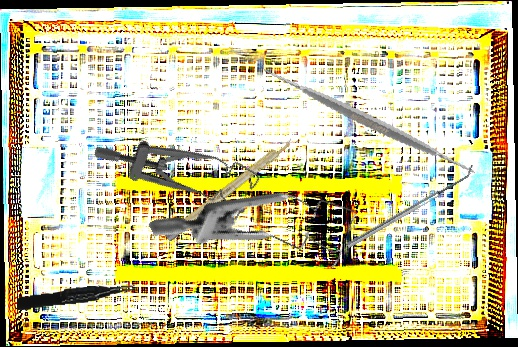Scalpel Handle: (163, 136, 296, 242)
Spatula Surgical: (260, 11, 478, 230), (343, 164, 478, 249)
Speculum: (147, 131, 374, 337), (90, 97, 266, 237)
Tissue Forceps: (15, 282, 137, 311)
